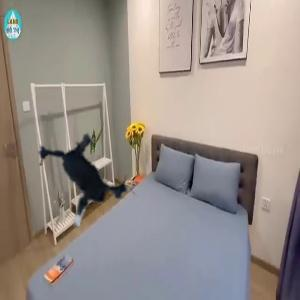drone: (10, 110, 153, 253)
